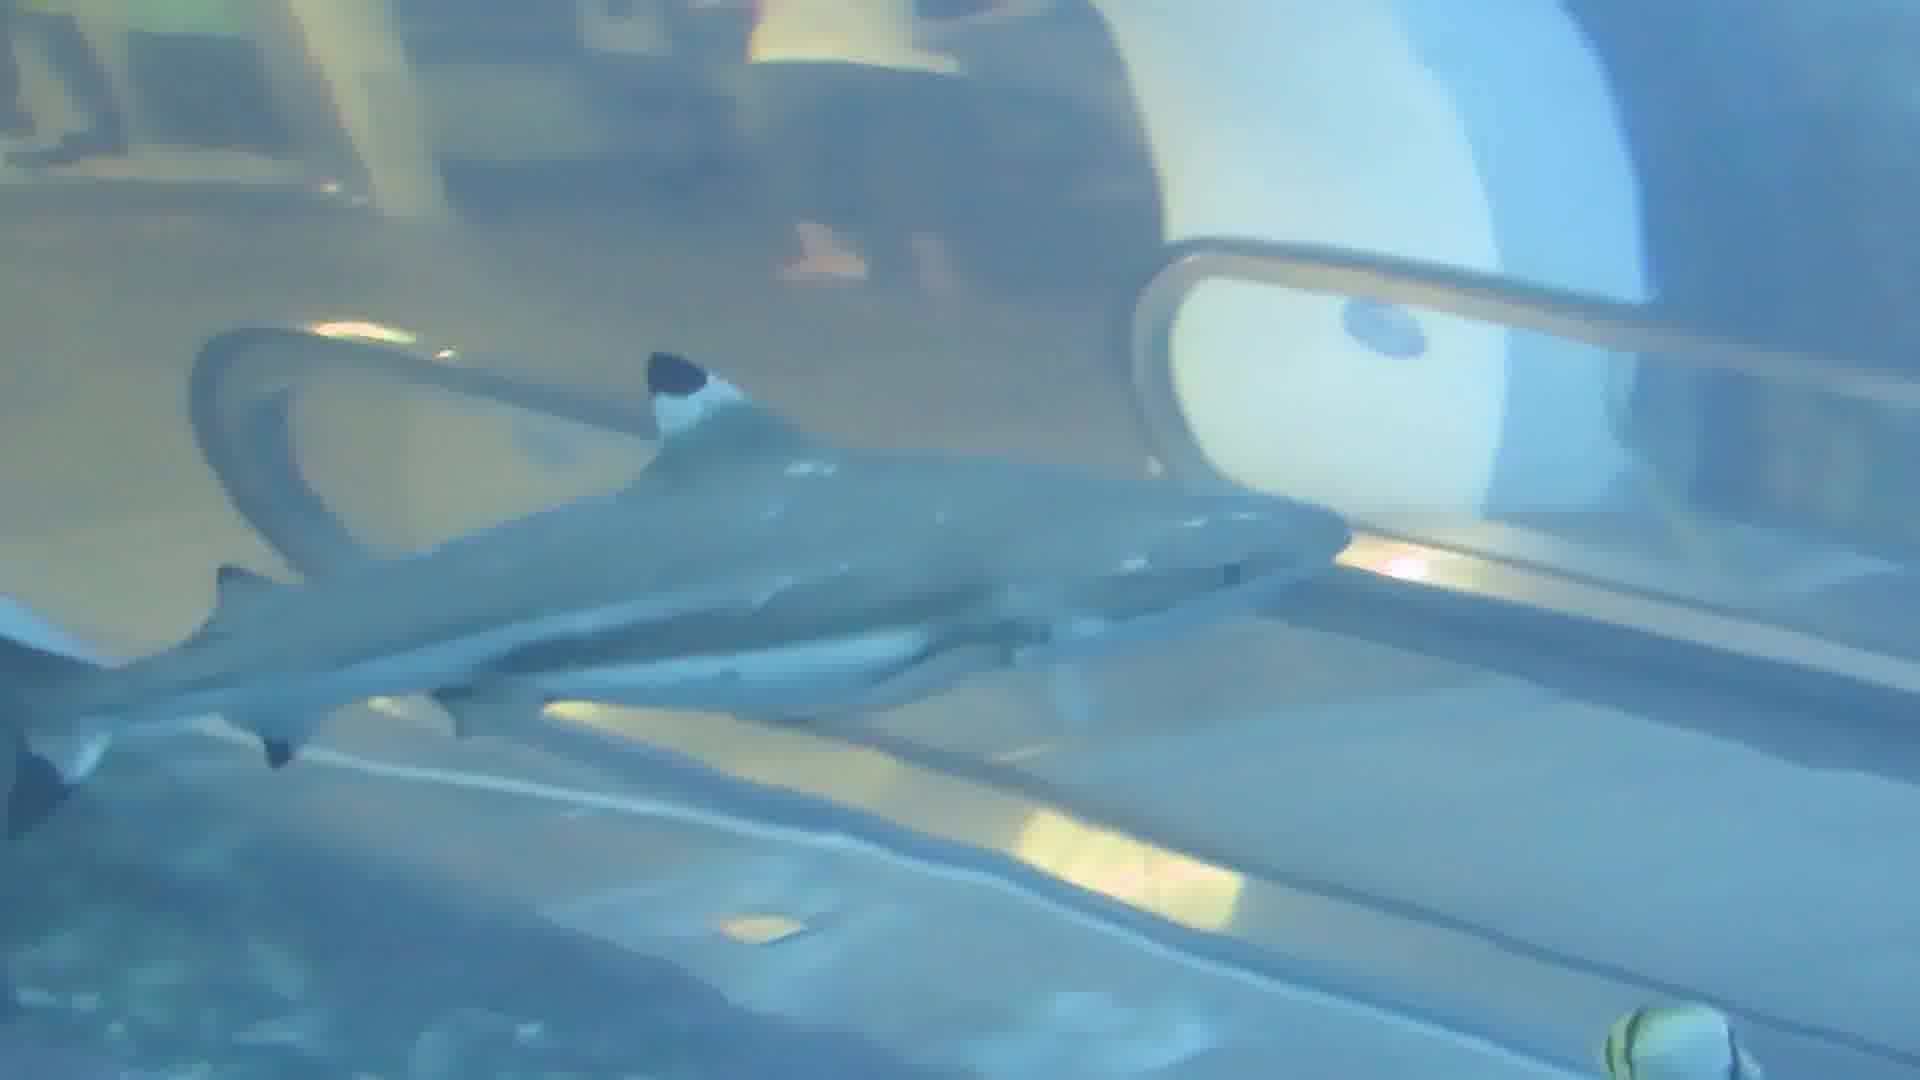Carcharhinus melanopterus: (1, 339, 1379, 775)
